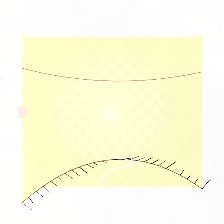foreign_body_visible: (108, 120, 140, 145)
